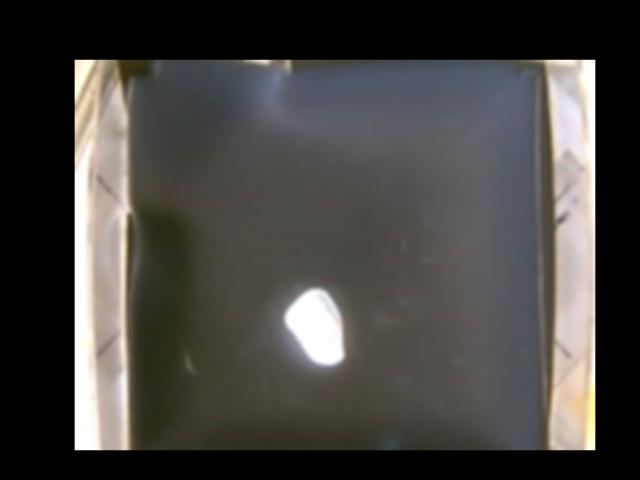Pebble: (282, 286, 345, 364)
